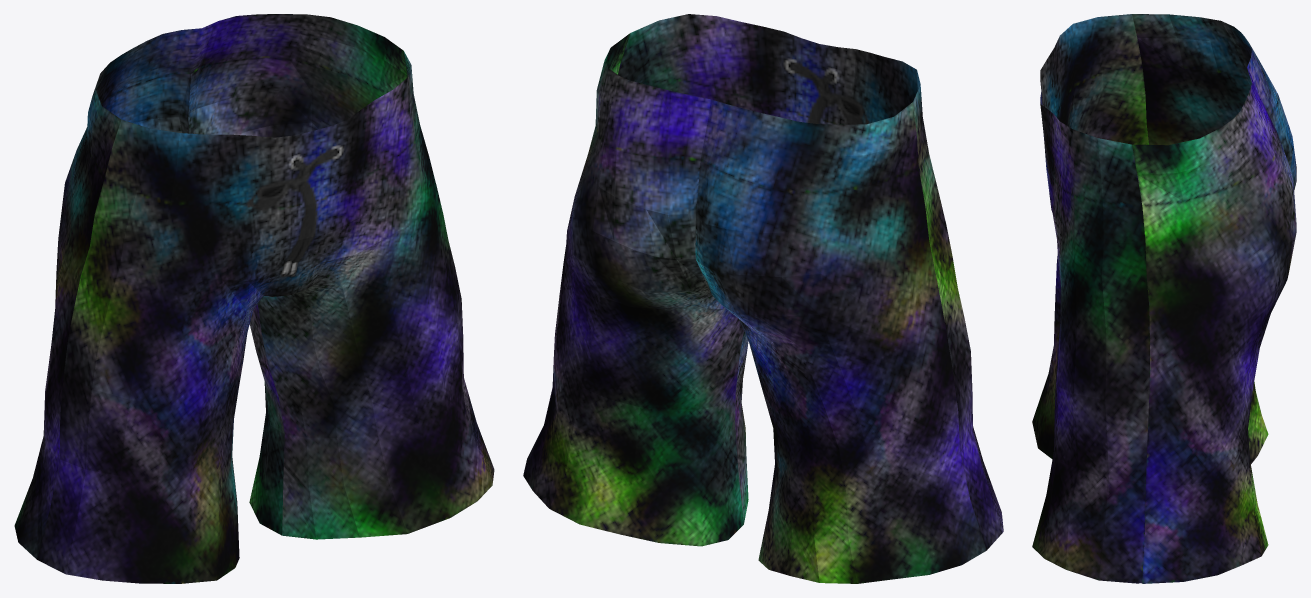
File: mhw_elvs_male_swim_shorts1.glb
The picture shows the model from 3 angles, left to right: view 1: azimuth 30°, elevation 25°; view 2: azimuth 150°, elevation 25°; view 3: azimuth 270°, elevation 25°; orthographic projection. The views are drawn at different scales.
Visible parts, largest first — view 1: mhw_elvs_male_swim_shorts1; view 2: mhw_elvs_male_swim_shorts1; view 3: mhw_elvs_male_swim_shorts1.
Part boxes in pixels (box(x1,y1,x2,y2)): mhw_elvs_male_swim_shorts1: box(14, 14, 494, 583); mhw_elvs_male_swim_shorts1: box(523, 14, 1003, 583); mhw_elvs_male_swim_shorts1: box(1032, 14, 1296, 583).
Size of the model in its own units: 0.4877 by 0.5016 by 0.2678.
1 material, 1 textured.
